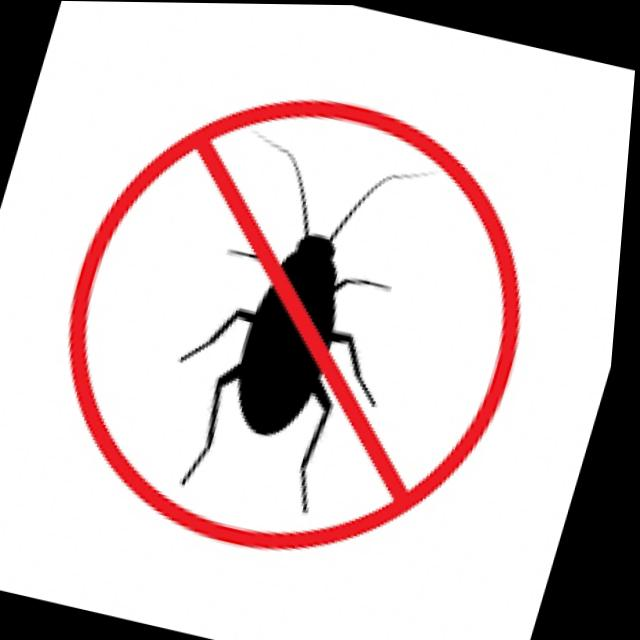Cockroach: (121, 95, 477, 556)
